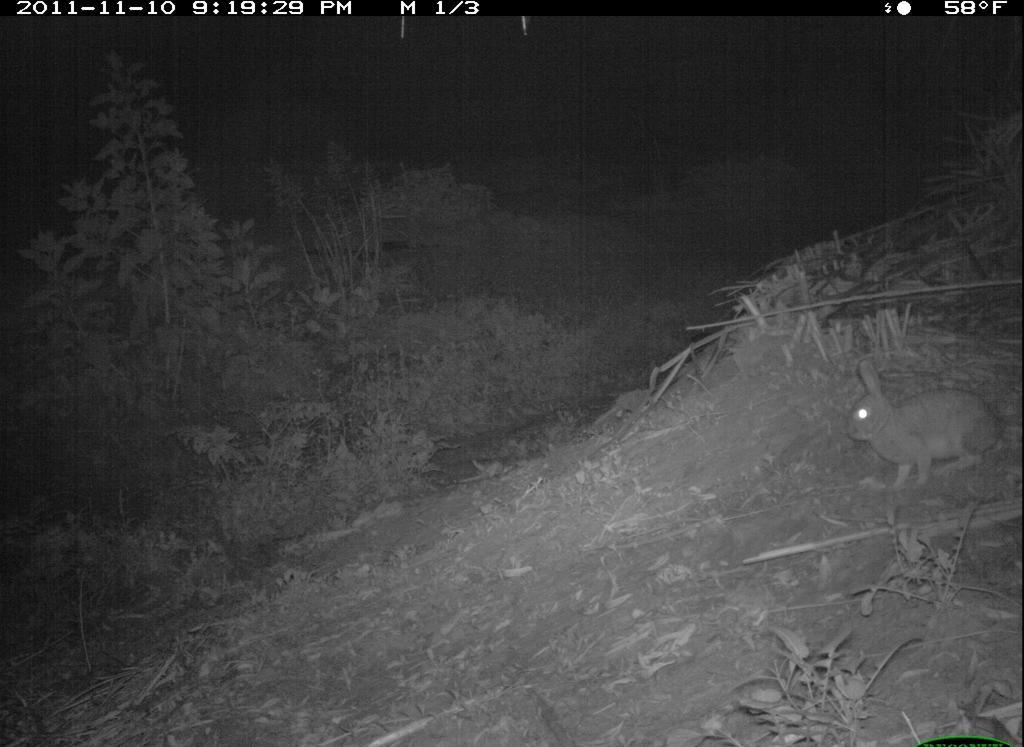rabbit: (830, 349, 1017, 493)
